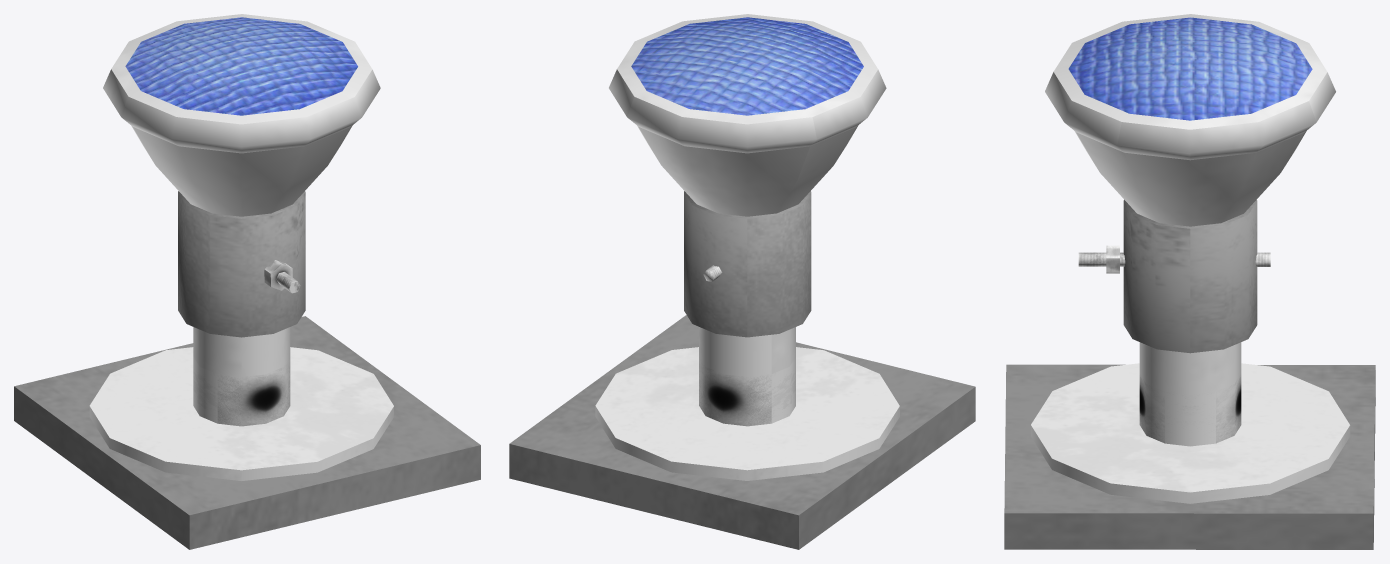
The model's file is Flood Blue.fbx.
3 renders of one model, left to right at view 1: azimuth 30°, elevation 25°; view 2: azimuth 150°, elevation 25°; view 3: azimuth 270°, elevation 25°, orthographic. The views are drawn at different scales.
Visible parts, largest first — view 1: Circle.006; view 2: Circle.006; view 3: Circle.006.
Part boxes in pixels (x1=…): Circle.006: x1=14, y1=14, x2=480, y2=549; Circle.006: x1=509, y1=14, x2=975, y2=549; Circle.006: x1=1004, y1=14, x2=1375, y2=549.
Bounding box in the file's own units: 12.19 × 16.01 × 12.83.
